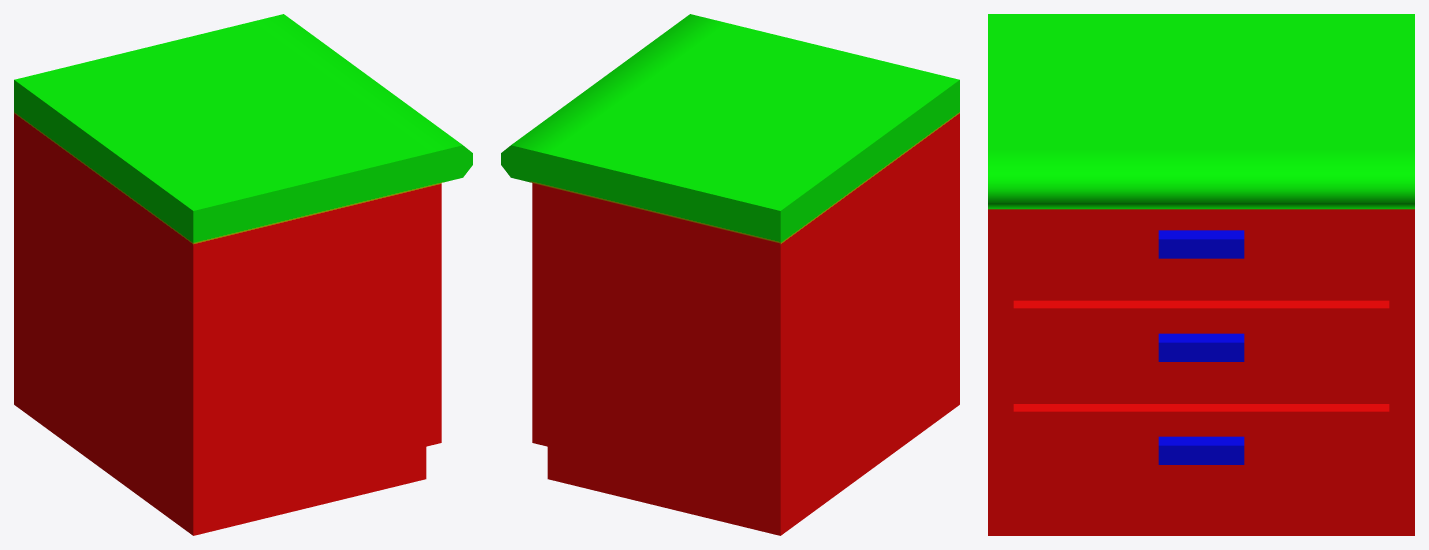
The model's file is STFcoking_closet.glb.
3 views of the same model, side by side, from view 1: azimuth 30°, elevation 25°; view 2: azimuth 150°, elevation 25°; view 3: azimuth 270°, elevation 25° (orthographic). The views are drawn at different scales.
Parts seen in each view (by area): view 1: STFcoking_closet; view 2: STFcoking_closet; view 3: STFcoking_closet.
Boxes of the visible parts, left/top/right/bottom form: STFcoking_closet: left=14, top=14, right=472, bottom=535; STFcoking_closet: left=501, top=14, right=959, bottom=535; STFcoking_closet: left=988, top=14, right=1414, bottom=535.
Bounding box in the file's own units: 0.9 × 1 × 1.
1 material, 1 textured.
